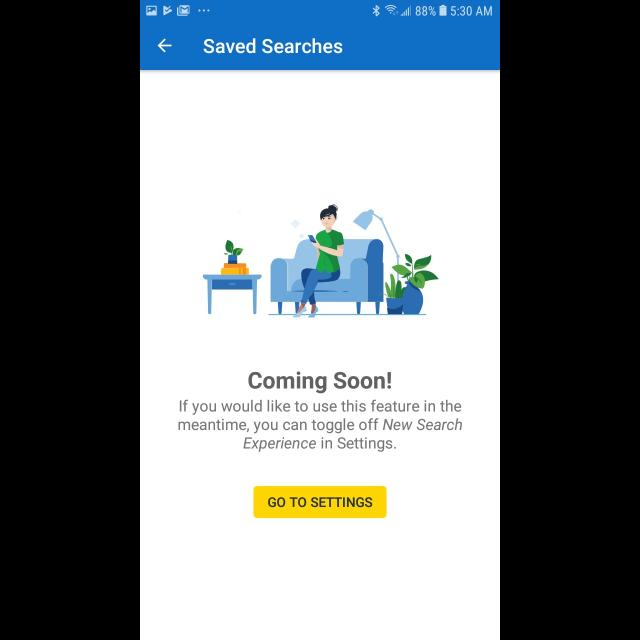icon: (158, 38, 172, 54)
image: (203, 204, 439, 318)
text: (178, 400, 462, 452), (248, 372, 392, 394), (204, 38, 342, 54)
textbutton: (254, 486, 386, 518)
uppertaskbar: (140, 1, 500, 18)
